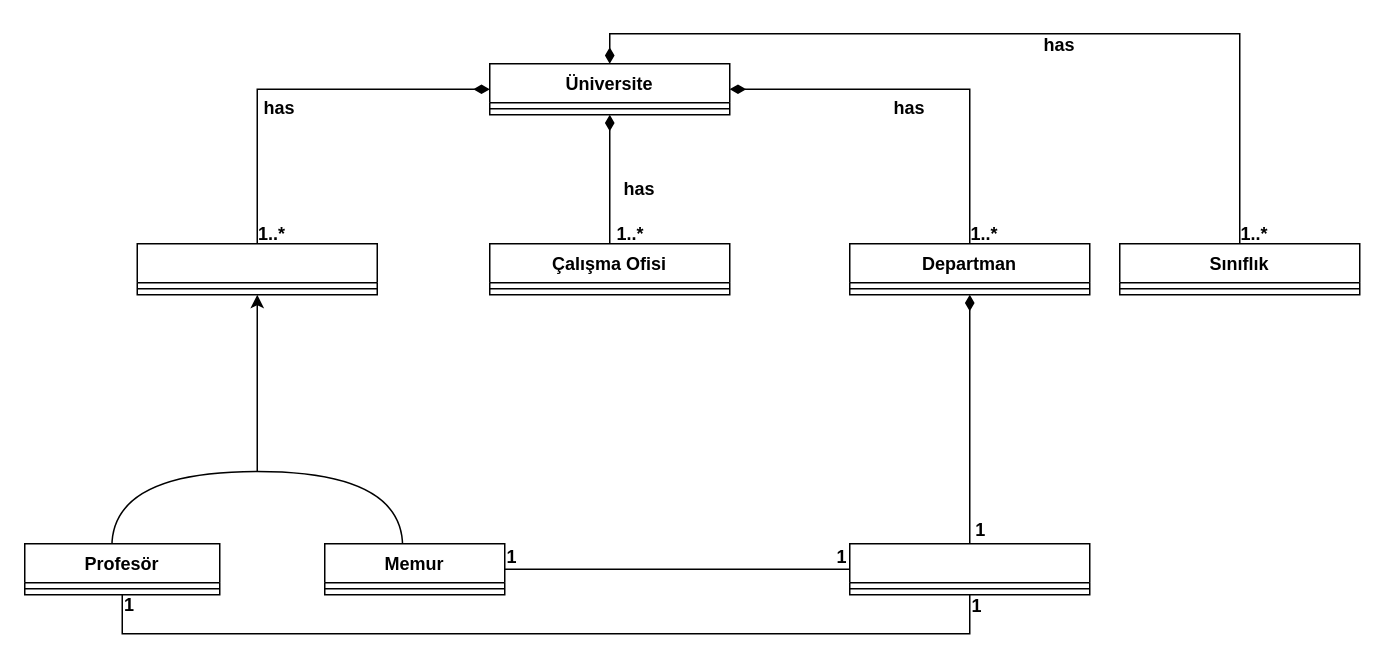
Some shapes in this 1385 by 659 pixel diagram are drawn without their labels. The shapes that lost their labels are listed below. From the top down, each one's centre as x and y in pixels, then its label:
the point at 256,268: Çalışan
the point at 969,568: Ofisler
